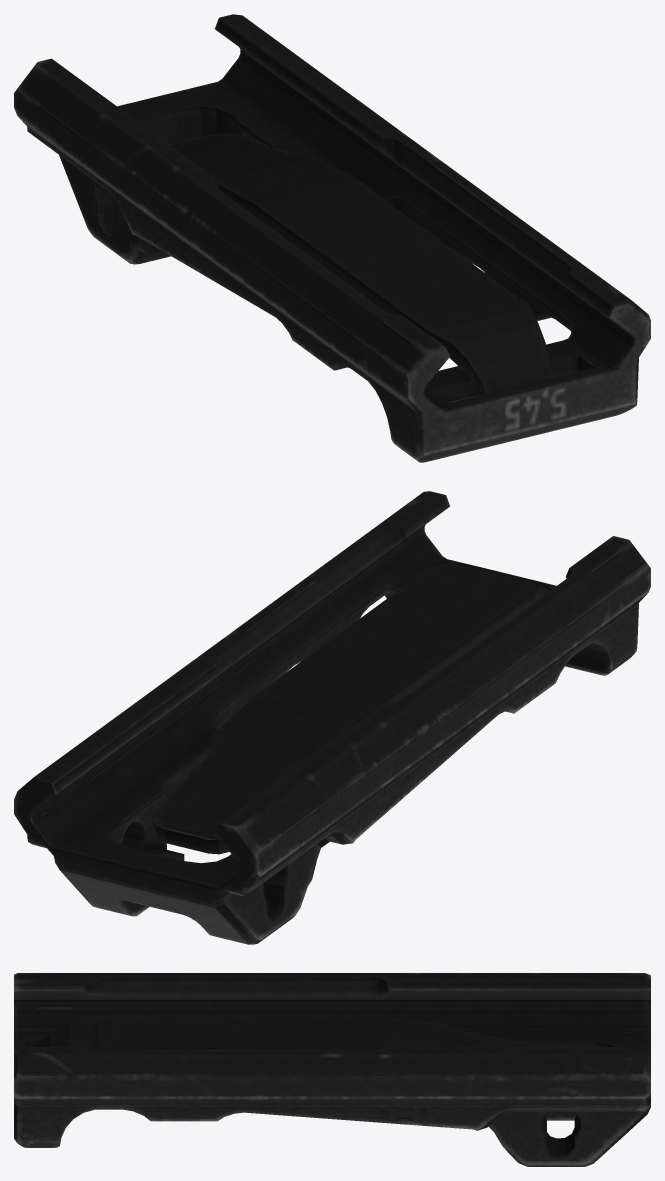
3 views of the same model, one above another, from view 1: azimuth 30°, elevation 25°; view 2: azimuth 150°, elevation 25°; view 3: azimuth 270°, elevation 25° (orthographic). The views are drawn at different scales.
Visible parts, largest first — view 1: TW_649ec2da59cbb3c813042dca_PZ_Import; view 2: TW_649ec2da59cbb3c813042dca_PZ_Import; view 3: TW_649ec2da59cbb3c813042dca_PZ_Import.
Boxes of the visible parts, bbox=[...] form: TW_649ec2da59cbb3c813042dca_PZ_Import: bbox=[14, 14, 650, 462]; TW_649ec2da59cbb3c813042dca_PZ_Import: bbox=[14, 491, 650, 944]; TW_649ec2da59cbb3c813042dca_PZ_Import: bbox=[14, 973, 650, 1166].
Bounding box in the file's own units: 0.0143 × 0.0404 × 0.00854.
Materials: 1 (1 with a texture image).
